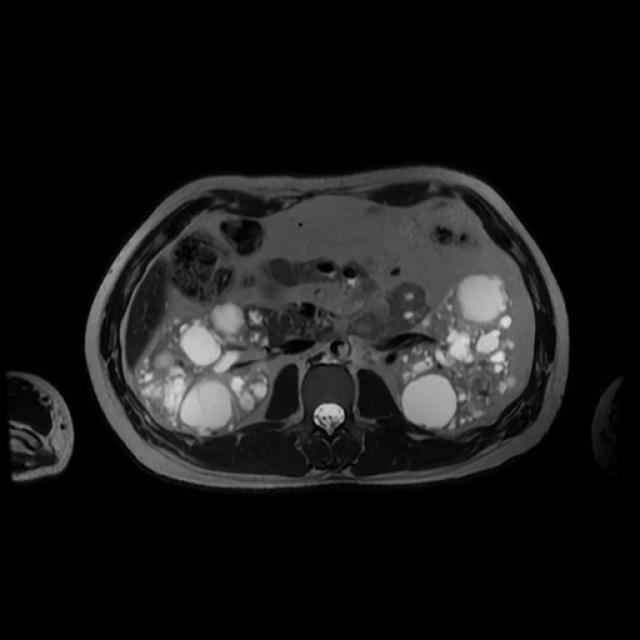sag: (138, 305, 269, 429)
sol: (399, 273, 516, 428)
